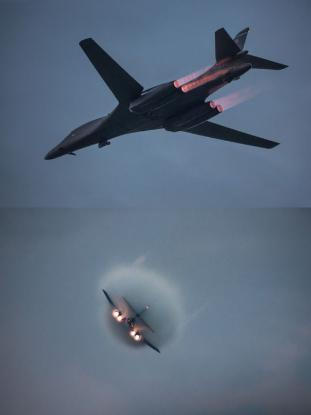AV8B: (42, 26, 289, 160), (101, 289, 160, 354)
